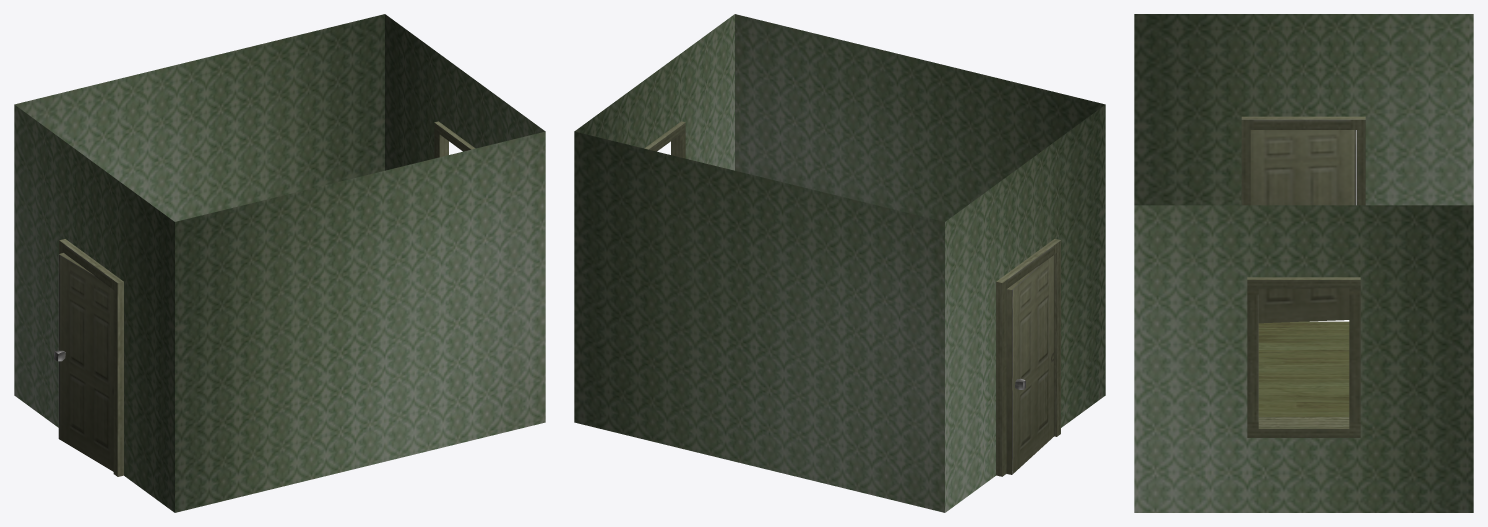
Rendered from Bedroom 1.fbx.
3 views of the same model, side by side, from view 1: azimuth 30°, elevation 25°; view 2: azimuth 150°, elevation 25°; view 3: azimuth 270°, elevation 25° (orthographic). The views are drawn at different scales.
Parts seen in each view (by area): view 1: Plane.002, Plane.004, Plane.001, Plane.003, Cube.002, Cube.001, Cube; view 2: Plane.004, Plane.002, Plane.001, Plane.003, Cube.002, Cube.001, Cube; view 3: Plane.003, Plane.001, Cube.002, Plane, Cube, Cube.001.
Part boxes in pixels (x1,y1,x2,y2): Plane.002: (175, 131, 545, 512); Plane.004: (14, 14, 384, 221); Plane.001: (14, 104, 174, 512); Plane.003: (385, 14, 545, 170); Cube.002: (54, 253, 113, 471); Cube.001: (59, 239, 123, 476); Cube: (434, 121, 475, 158); Plane.004: (574, 131, 944, 512); Plane.002: (735, 14, 1105, 221); Plane.001: (945, 104, 1105, 512); Plane.003: (574, 14, 734, 170); Cube.002: (1006, 255, 1053, 474); Cube.001: (996, 239, 1060, 476); Cube: (644, 121, 685, 158); Plane.003: (1134, 205, 1473, 512); Plane.001: (1134, 14, 1473, 205); Cube.002: (1250, 130, 1356, 323); Plane: (1258, 321, 1349, 416); Cube: (1247, 277, 1360, 437); Cube.001: (1241, 116, 1365, 205).
Size of the model in its own units: 852 by 600 by 600.
